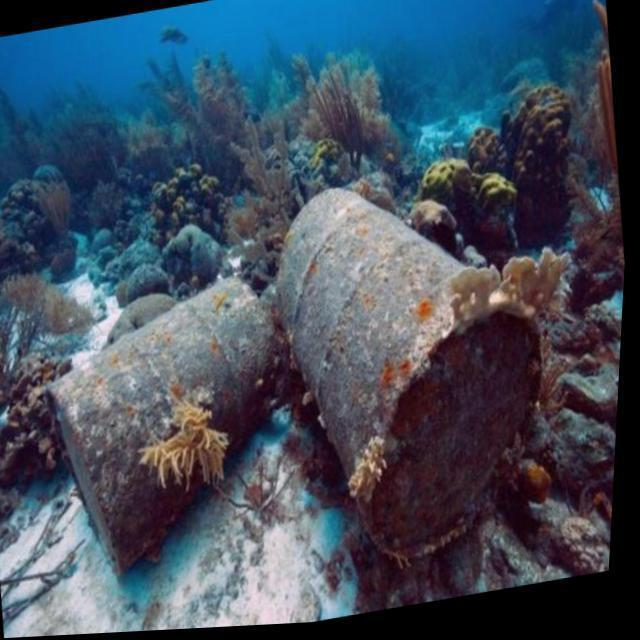Dead Coral: (0, 348, 72, 529)
